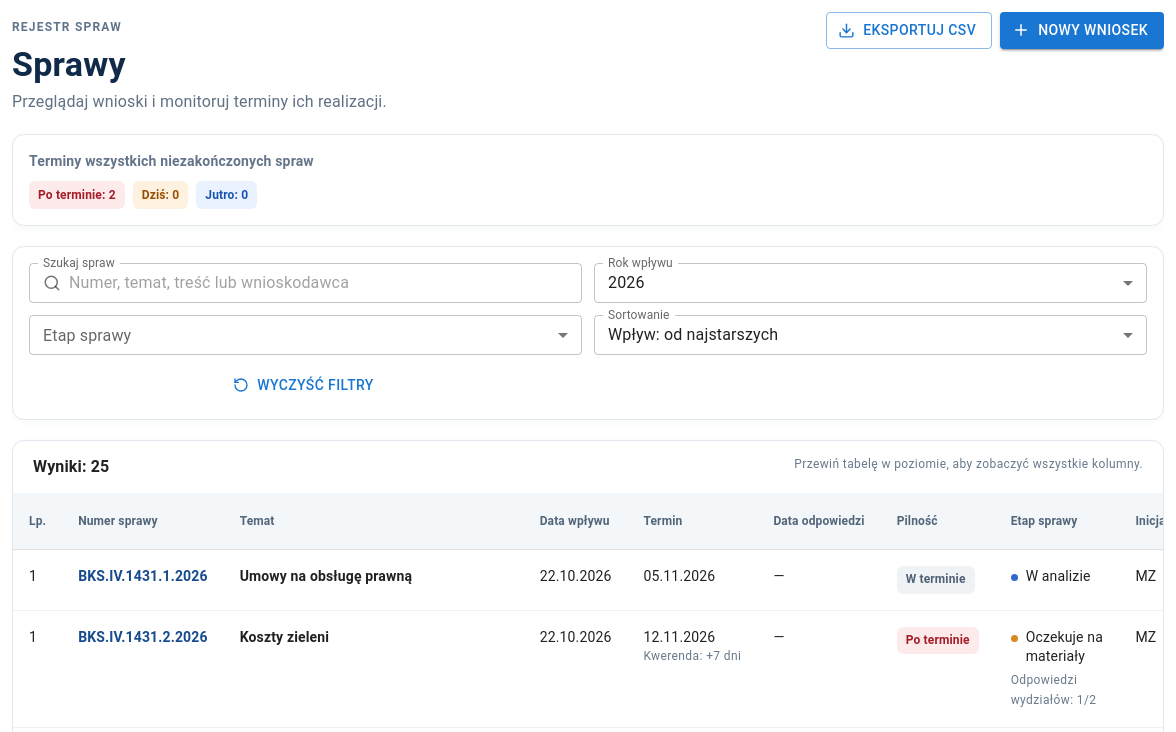
RegisterPage › reports an export failure instead of claiming success
Check: the link "BKS.IV.1431.1.2026" is shown, box [78,568,208,584]
Click the button "Eksportuj CSV". click: (909, 30)
box: [826,12,992,48]
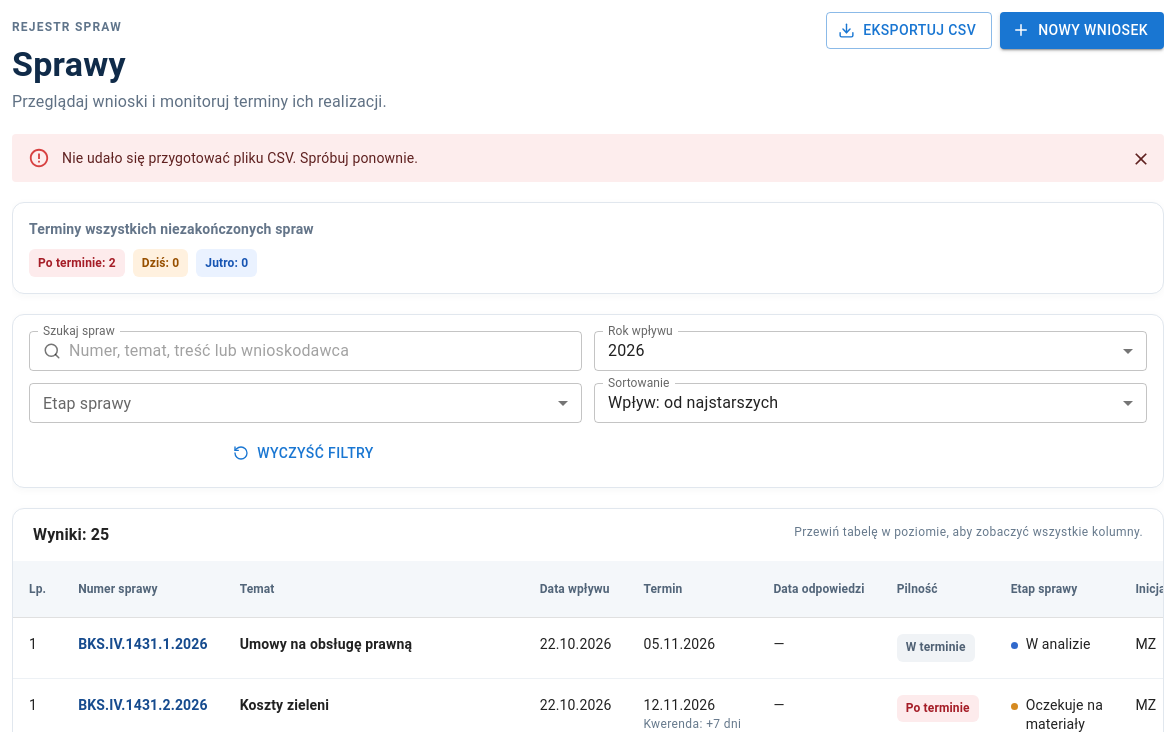
Check: the message shows "Nie udało się przygotować pliku CSV", box [62,150,418,166]
